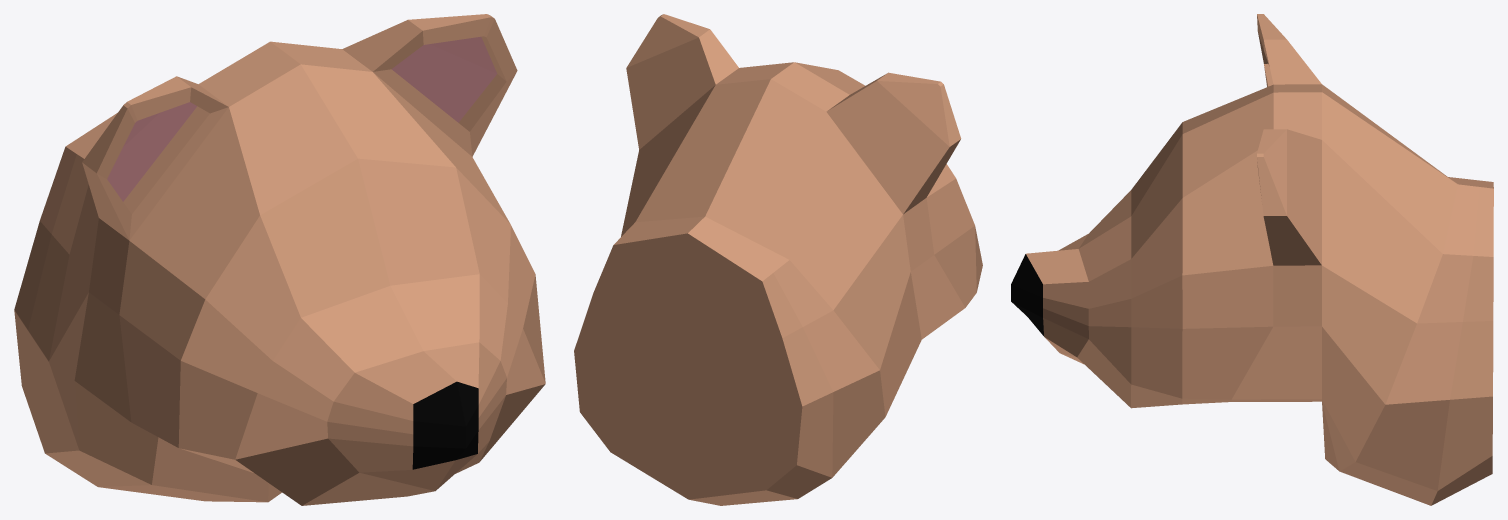
Rendered from bear.fbx.
3 renders of one model, left to right at view 1: azimuth 30°, elevation 25°; view 2: azimuth 150°, elevation 25°; view 3: azimuth 270°, elevation 25°, orthographic. The views are drawn at different scales.
Parts seen in each view (by area): view 1: pCube1; view 2: pCube1; view 3: pCube1.
Boxes of the visible parts, x1,y1,x2,y2 form: pCube1: [14, 14, 545, 505]; pCube1: [574, 14, 982, 505]; pCube1: [1011, 14, 1493, 505].
Bounding box in the file's own units: 4.21 × 4.95 × 5.27.
